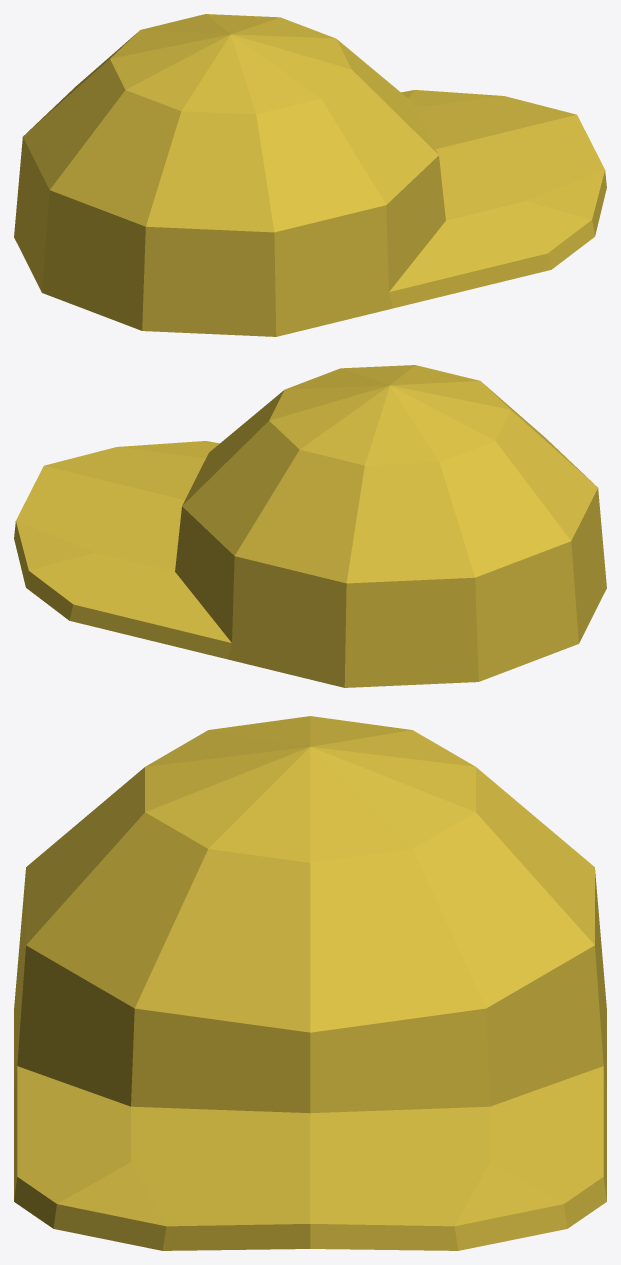
The model's file is Hat.fbx.
3 renders of one model, top to bottom at view 1: azimuth 30°, elevation 25°; view 2: azimuth 150°, elevation 25°; view 3: azimuth 270°, elevation 25°, orthographic. The views are drawn at different scales.
Parts seen in each view (by area): view 1: pSphere1; view 2: pSphere1; view 3: pSphere1.
Part boxes in pixels (<box>): pSphere1: <box>14,14,606,336</box>; pSphere1: <box>14,365,606,687</box>; pSphere1: <box>14,716,606,1250</box>.
Bounding box in the file's own units: 5.88 × 2.23 × 3.94.
